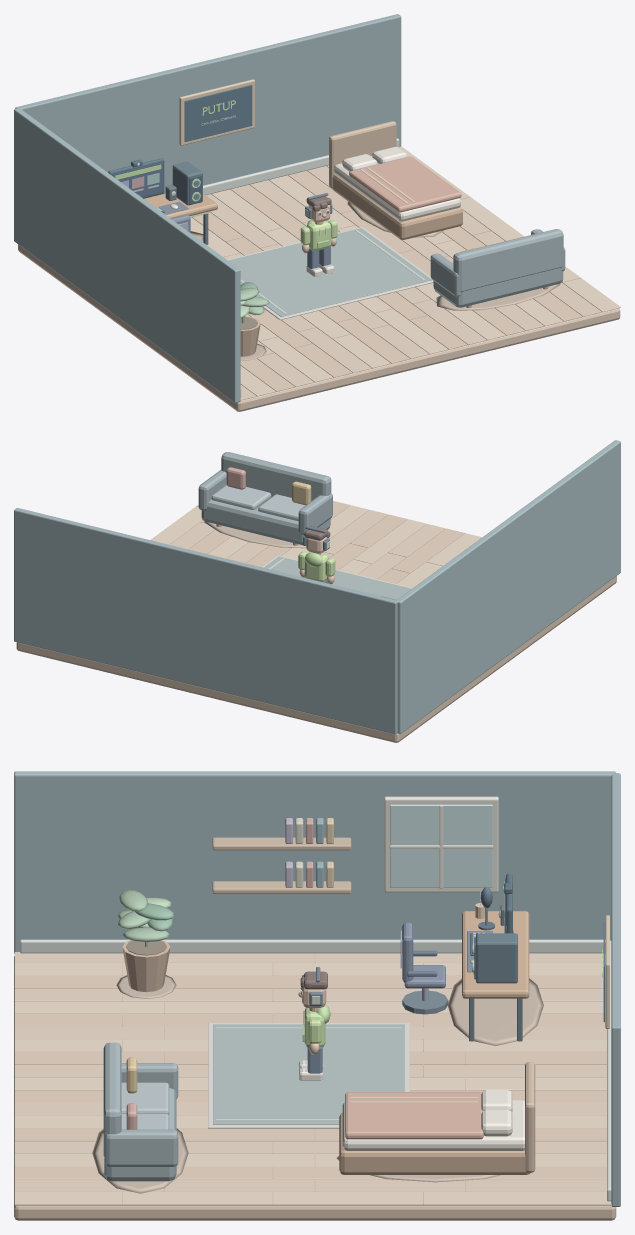
File: Putup-modelos.glb
The picture shows the model from 3 angles, top to bottom: view 1: azimuth 30°, elevation 25°; view 2: azimuth 150°, elevation 25°; view 3: azimuth 270°, elevation 25°; orthographic projection. The views are drawn at different scales.
Parts seen in each view (by area): view 1: Pared del estudio, Pared lateral, Alfombra tejido, Tarima de madera, Sofá respaldo, Edredón, Fondo cartel, Tablón.010, Tablón.014, Tablón.011, Tablón.009, Somier (+25 smaller); view 2: Pared del estudio, Pared lateral, Tarima de madera, Sofá respaldo, Sofá base, Alfombra tejido, Tablón.010, Tablón.008, Tablón.009, Tablón.011, Tablón.007, Tablón.012 (+12 smaller); view 3: Pared lateral, Alfombra tejido, Tarima de madera, Tablón.019, Cristal azul, Tablón.018, Zócalo lateral, Edredón, Tablón.003, Tablón.001, Tablón.004, Tablón.002 (+41 smaller).
Part boxes in pixels (x1,y1,x2,y2): Pared del estudio: [15, 14, 401, 198]; Pared lateral: [14, 108, 240, 402]; Alfombra tejido: [228, 228, 431, 316]; Tarima de madera: [18, 244, 620, 411]; Sofá respaldo: [453, 229, 563, 292]; Edredón: [349, 156, 461, 212]; Fondo cartel: [184, 85, 252, 141]; Tablón.010: [211, 189, 448, 354]; Tablón.014: [288, 170, 524, 335]; Tablón.011: [230, 185, 467, 349]; Tablón.009: [206, 194, 429, 359]; Somier: [332, 174, 462, 239]; Pared del estudio: [14, 508, 397, 734]; Pared lateral: [397, 440, 620, 733]; Tarima de madera: [16, 576, 616, 742]; Sofá respaldo: [221, 452, 331, 500]; Sofá base: [201, 499, 330, 545]; Alfombra tejido: [263, 556, 411, 599]; Tablón.010: [339, 519, 426, 574]; Tablón.008: [377, 528, 464, 583]; Tablón.009: [358, 524, 445, 578]; Tablón.011: [329, 514, 407, 569]; Tablón.007: [396, 533, 481, 587]; Tablón.012: [321, 510, 388, 557]; Pared lateral: [14, 771, 615, 953]; Alfombra tejido: [213, 1024, 404, 1124]; Tarima de madera: [14, 956, 616, 1220]; Tablón.019: [14, 1192, 611, 1205]; Cristal azul: [390, 804, 492, 887]; Tablón.018: [14, 1179, 606, 1191]; Zócalo lateral: [20, 939, 605, 953]; Edredón: [345, 1092, 483, 1139]; Tablón.003: [14, 988, 605, 1001]; Tablón.001: [14, 963, 605, 975]; Tablón.004: [14, 1001, 605, 1013]; Tablón.002: [14, 975, 605, 988].
Size of the model in its own units: 10.08 by 3.57 by 10.08.
